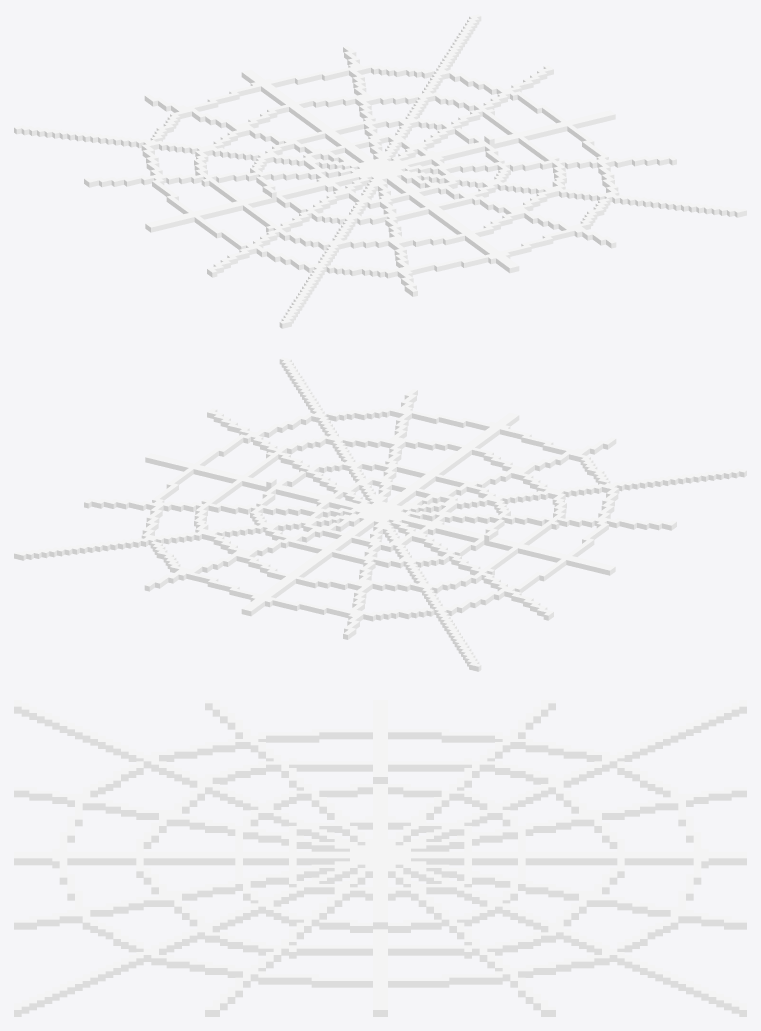
The model's file is 蜘蛛网.gltf.
The picture shows the model from 3 angles, top to bottom: view 1: azimuth 30°, elevation 25°; view 2: azimuth 150°, elevation 25°; view 3: azimuth 270°, elevation 25°; orthographic projection. The views are drawn at different scales.
Parts seen in each view (by area): view 1: Object; view 2: Object; view 3: Object.
Boxes of the visible parts, x1,y1,x2,y2 form: Object: [14, 14, 746, 328]; Object: [14, 357, 746, 671]; Object: [14, 700, 746, 1016].
Bounding box in the file's own units: 96 × 2 × 96.
1 material, 1 textured.
